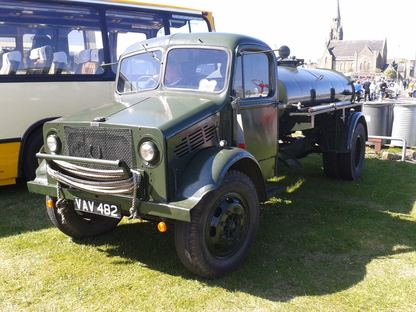truck: (18, 25, 381, 261)
